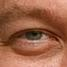eye: (26, 31, 42, 40)
